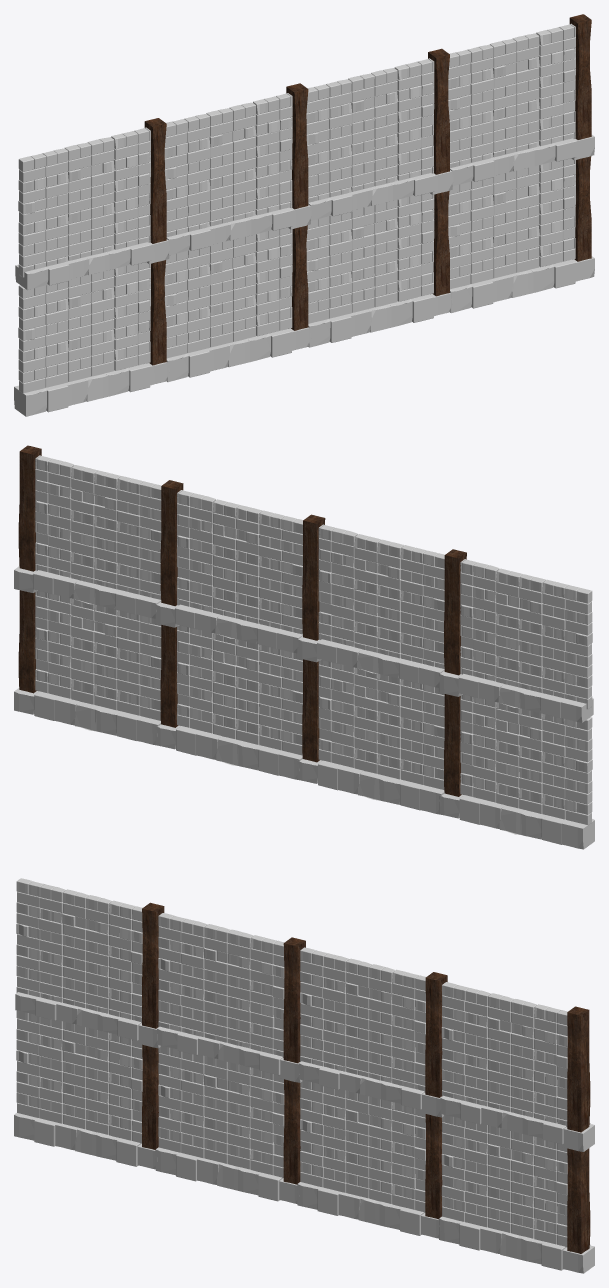
Rendered from DungeonWall.fbx.
3 views of the same model, one above another, from view 1: azimuth 30°, elevation 25°; view 2: azimuth 150°, elevation 25°; view 3: azimuth 330°, elevation 25° (orthographic).
Parts seen in each view (by area): view 1: Main pan 2; view 2: Main pan 2; view 3: Main pan 2.
Part boxes in pixels (x1,y1,x2,y2): Main pan 2: [14, 14, 594, 416]; Main pan 2: [14, 445, 594, 849]; Main pan 2: [14, 878, 594, 1273].
Size of the model in its own units: 1395 by 605 by 59.6.
